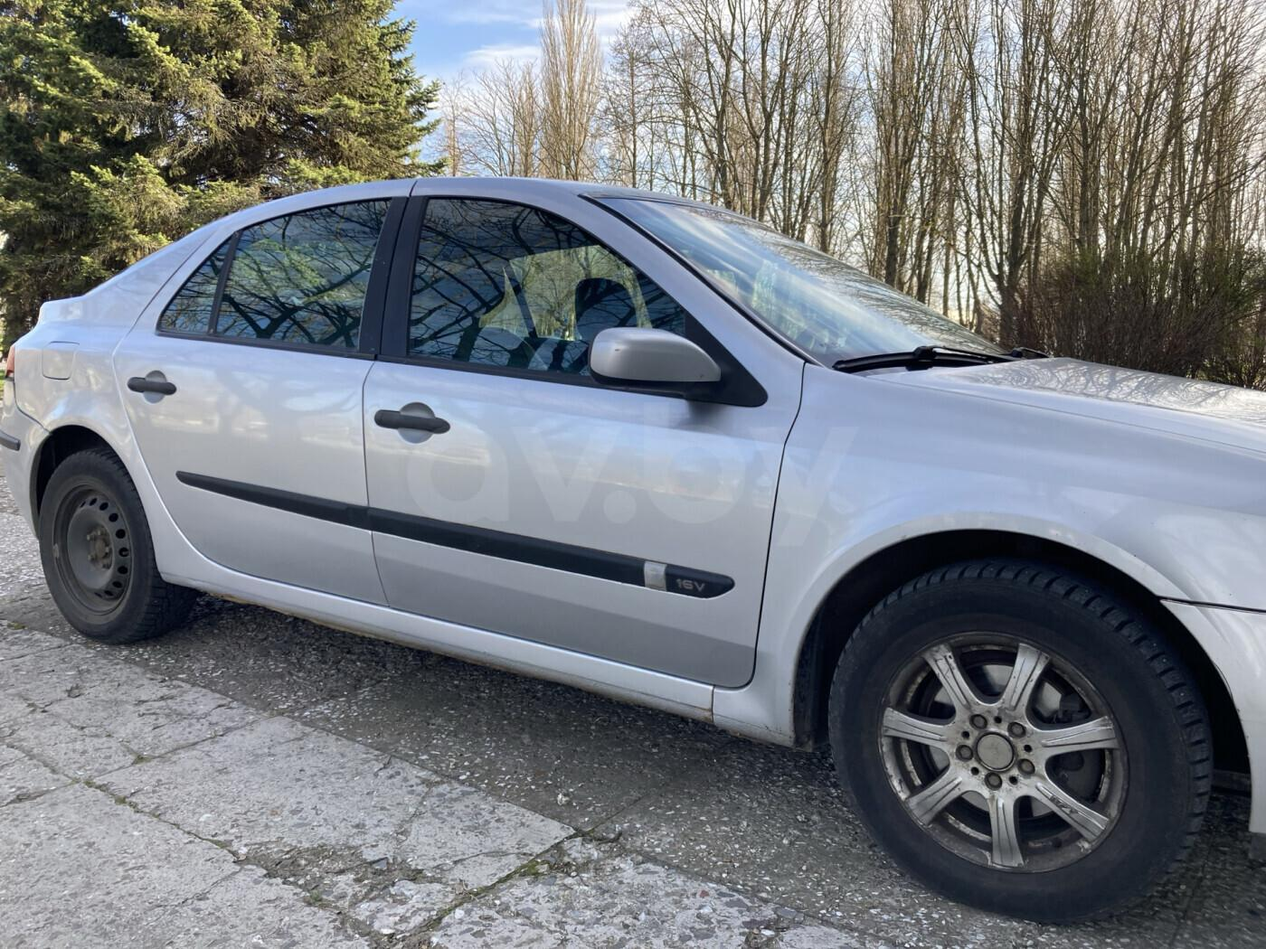Laguna_2005-2007: (0, 173, 1266, 931)
